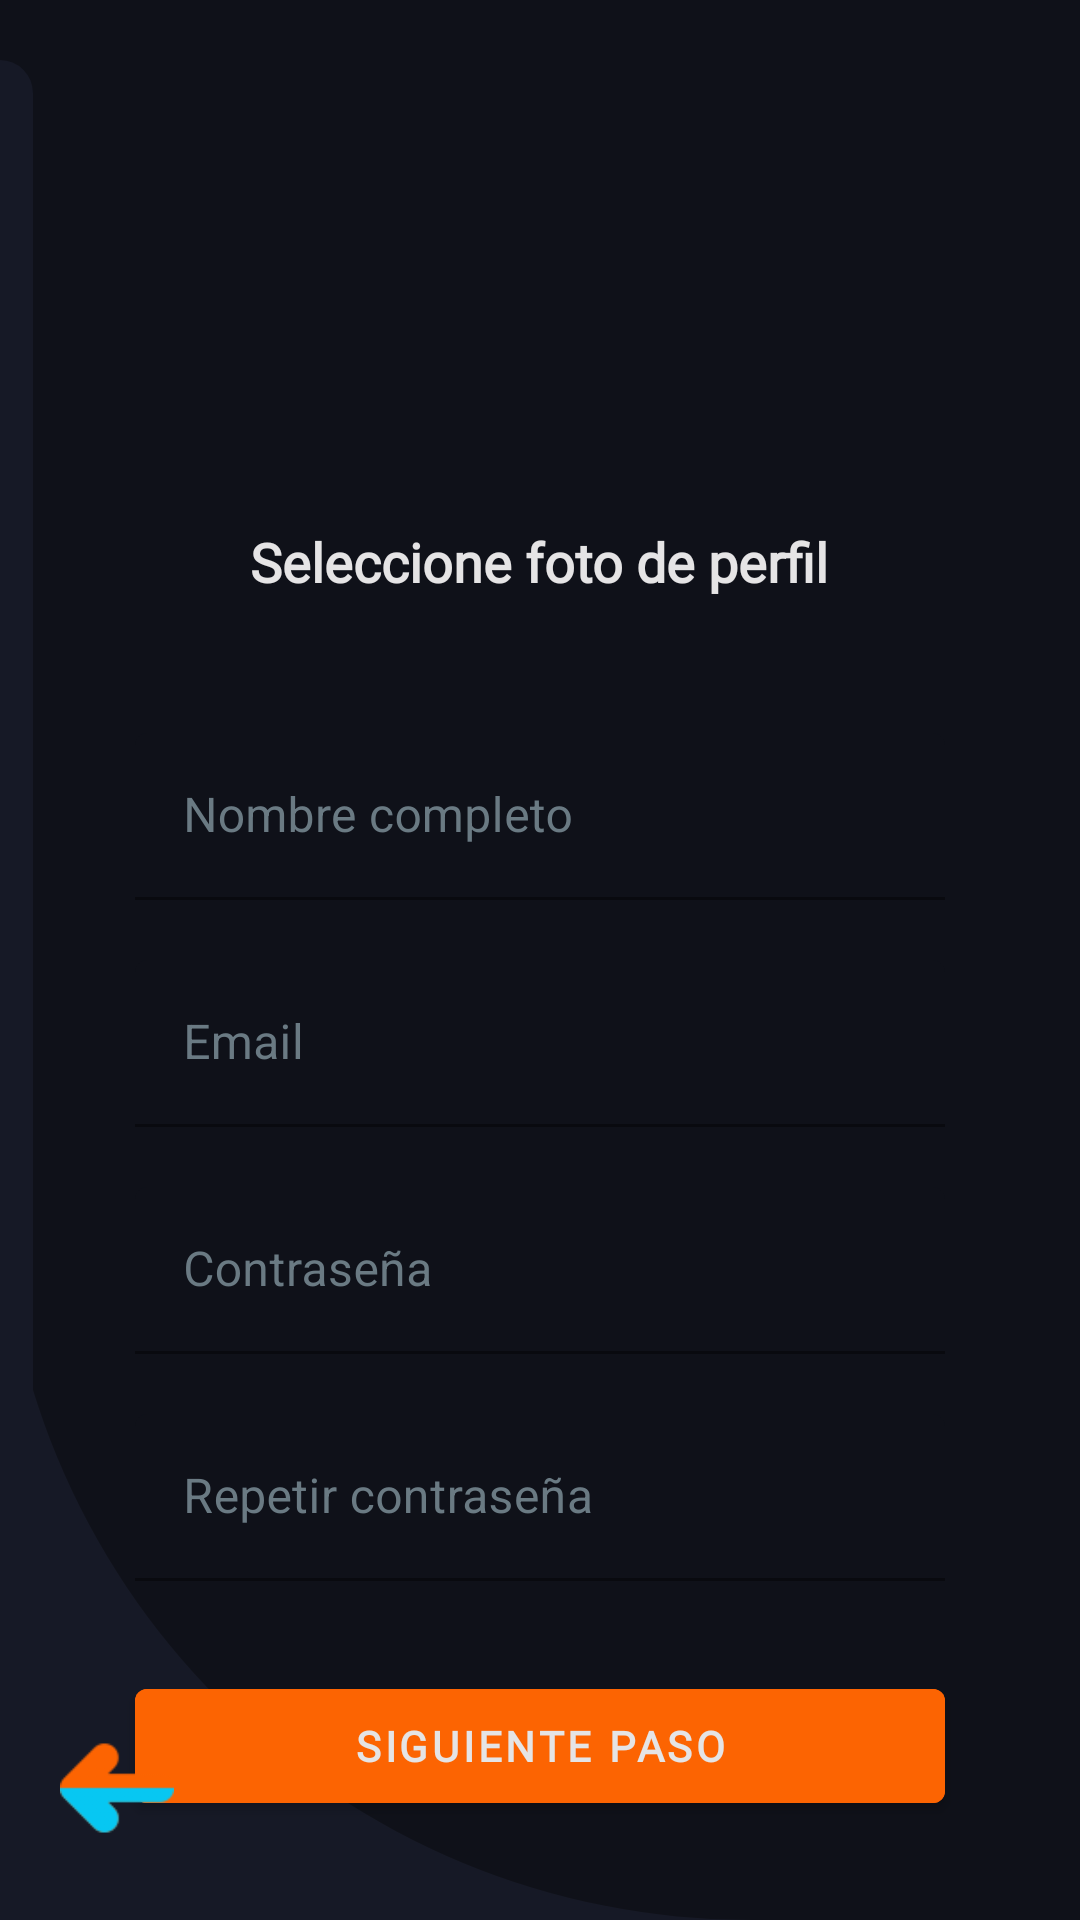

Named icons in this screenshot (1080 × 1920) and their centers, point (x, y):
atras register: point (117, 1782)
